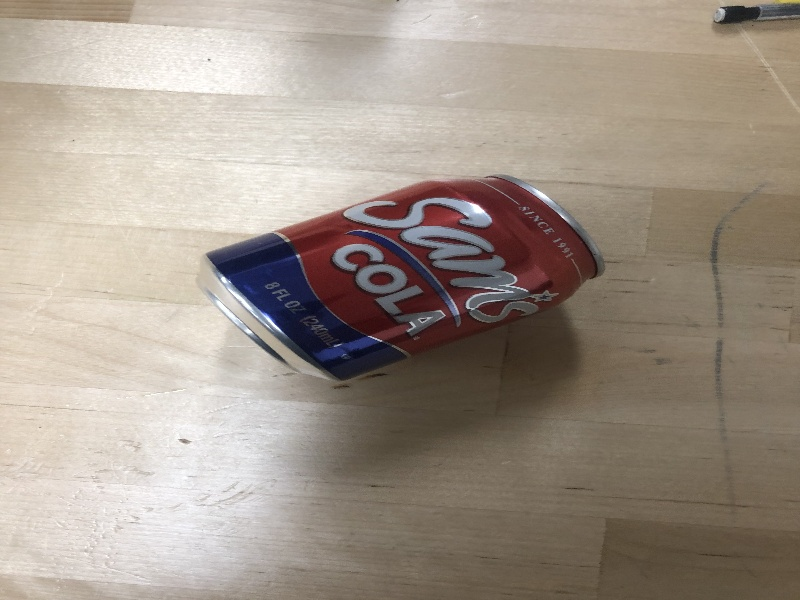metal: (191, 169, 615, 397)
